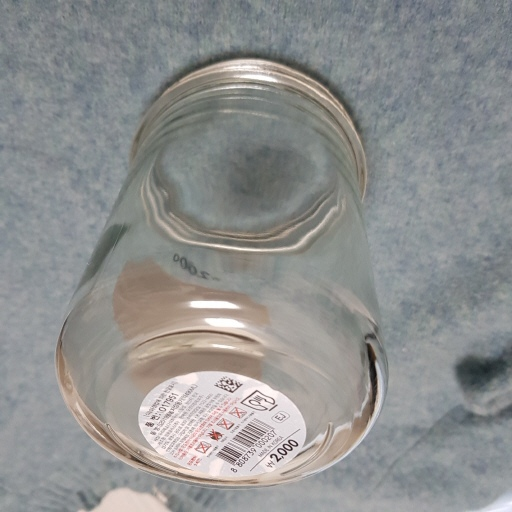Glass_5: (50, 55, 393, 486)
